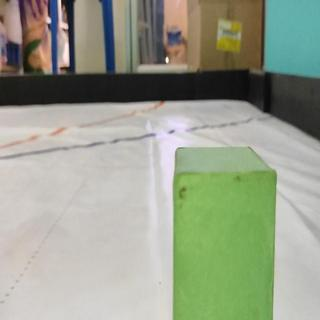greenbox: (171, 142, 280, 320)
